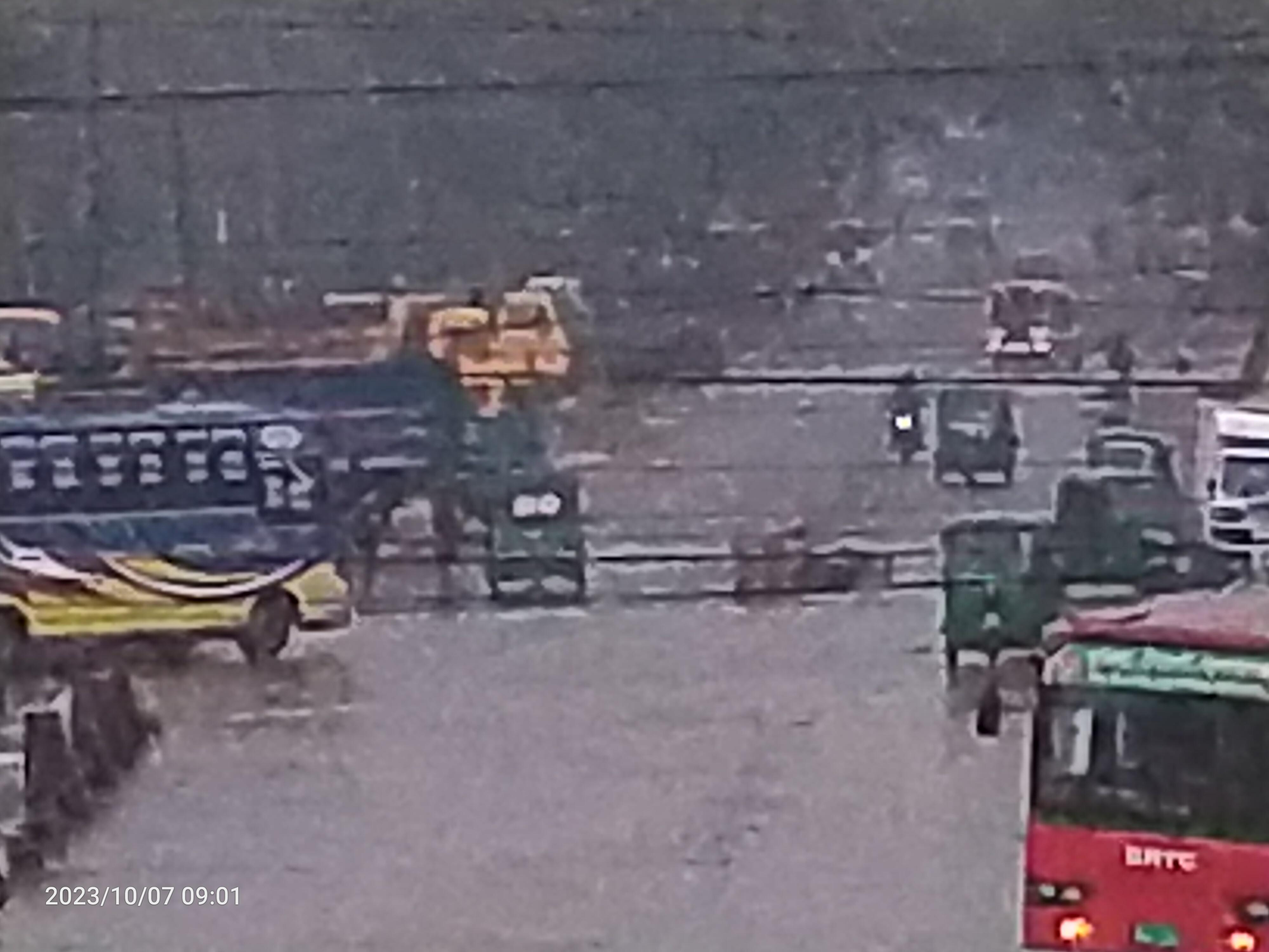Bike: (867, 327, 941, 480)
Bus: (0, 356, 405, 705), (947, 556, 1269, 952)
Car: (1187, 382, 1269, 565)
